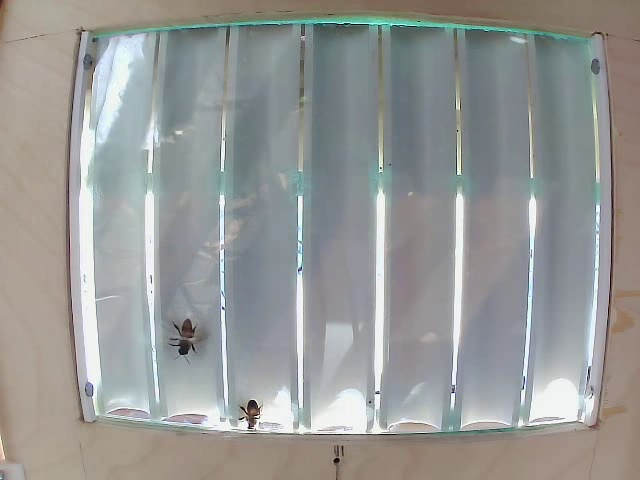bee: (165, 318, 199, 363), (230, 385, 263, 416)
